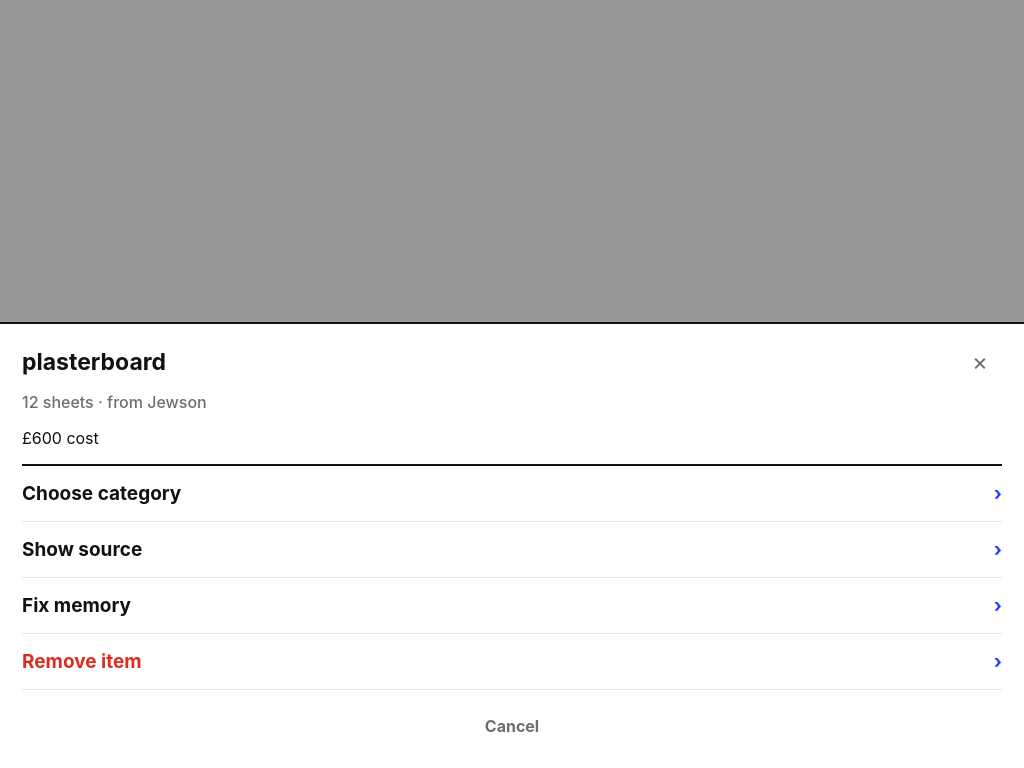
it: ItemActionDrawer — one drawer, push/replace sub-states › a failed edit keeps the form mounted with a retryable error (values preserved)
What coordinates should you click on to do the following:
click the button "Fix memory ›"
I would click on:
 (76, 606)
Its box is [22,578,1002,634].
(page scrolled)
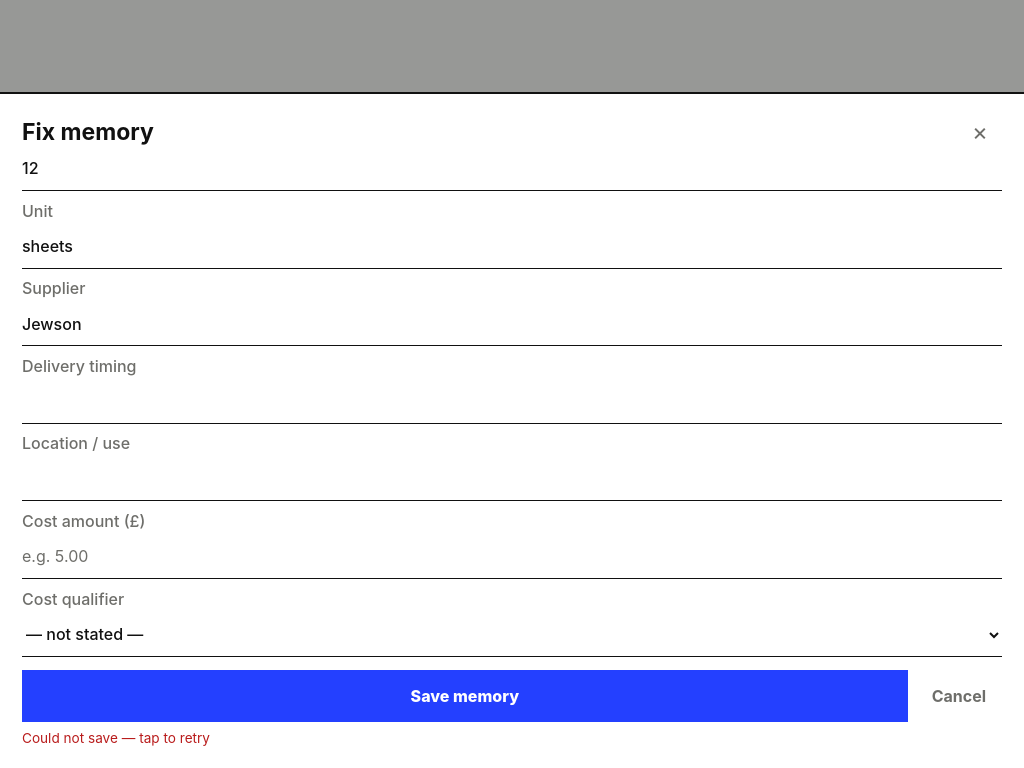
Result: the form named "edit memory" is shown
Result: the message shows "Could not save" at [22,730,210,746]
